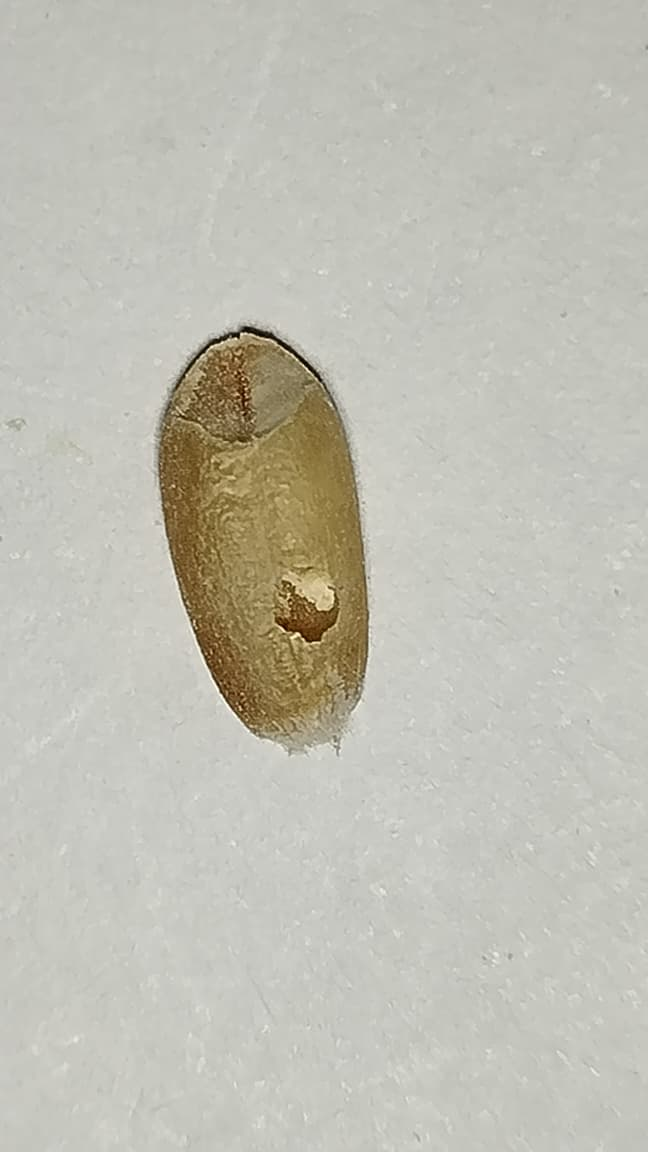damage: (152, 322, 373, 756)
insectdamage: (174, 326, 336, 455), (264, 548, 360, 664)
